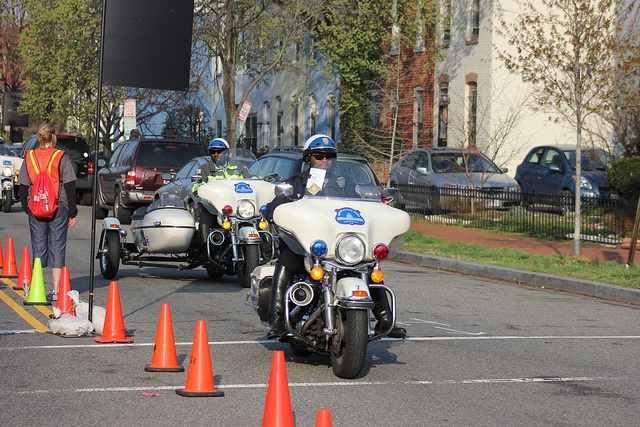non-vehicle: (267, 158, 411, 383), (193, 145, 274, 287)
